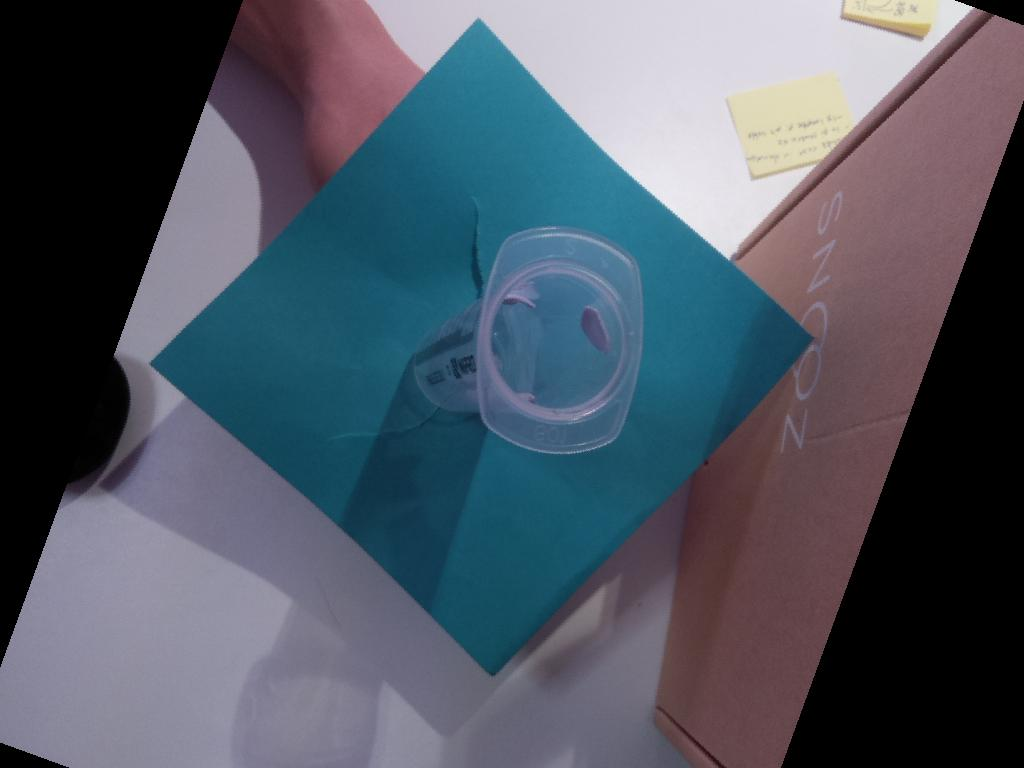dirty: (476, 226, 646, 455)
